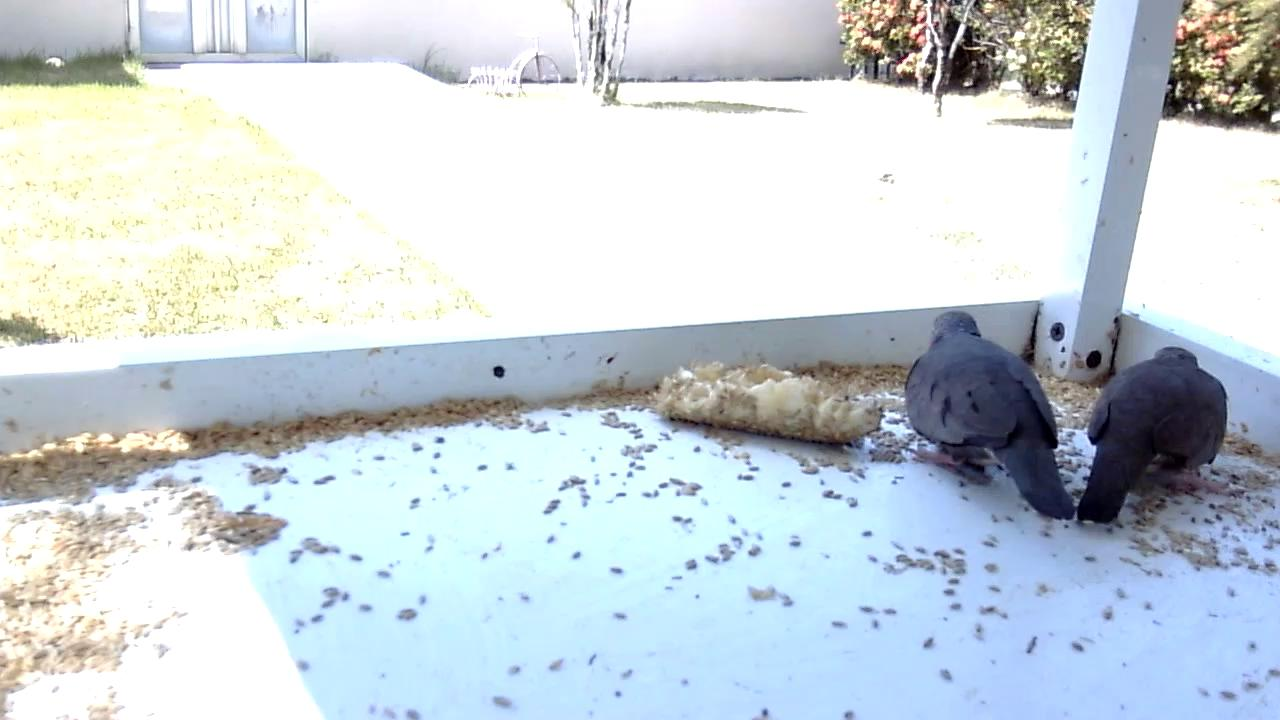rolinha: (902, 312, 1078, 522), (1076, 344, 1234, 525)
